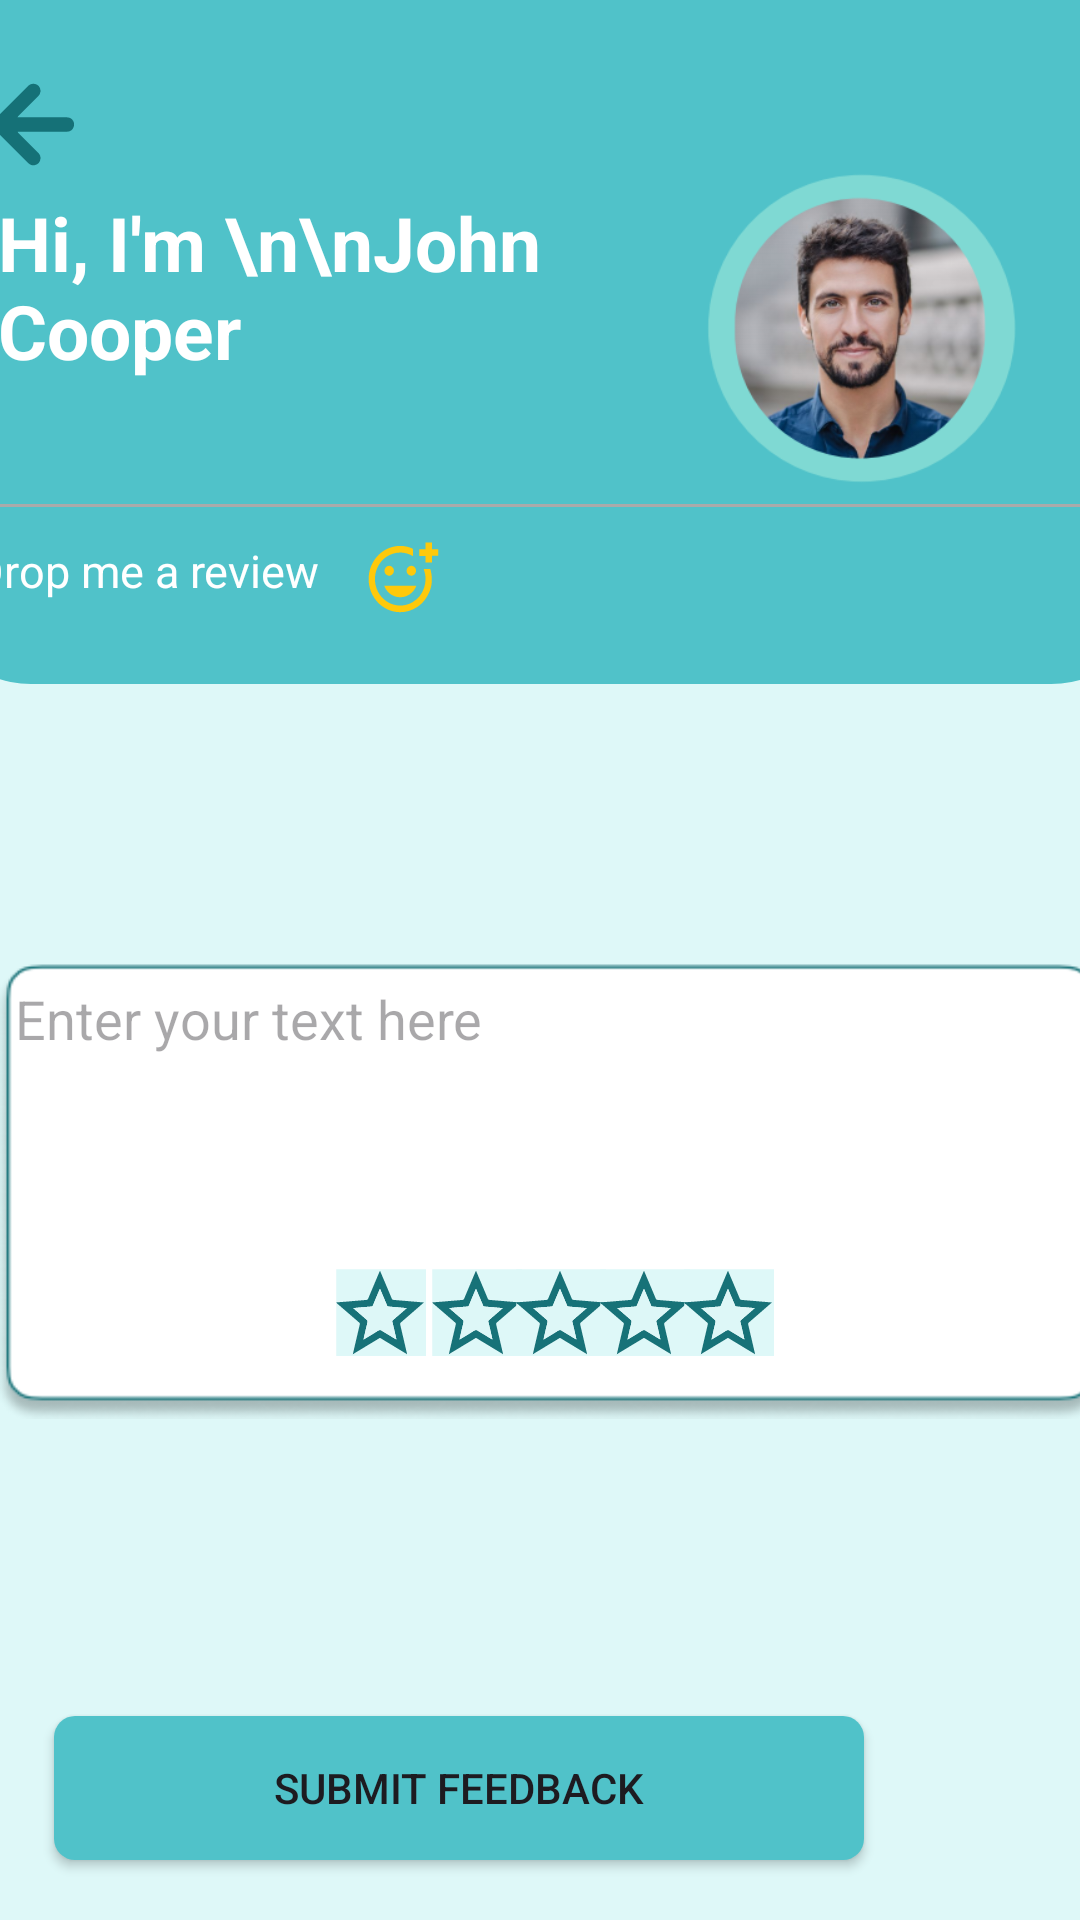

Screen size 1080x1920. Icon name, then its center in pixels as (x=x, y=y):
smiley: (x=403, y=577)
starempty: (x=381, y=1312), (x=477, y=1312), (x=729, y=1312), (x=561, y=1312), (x=645, y=1312)
